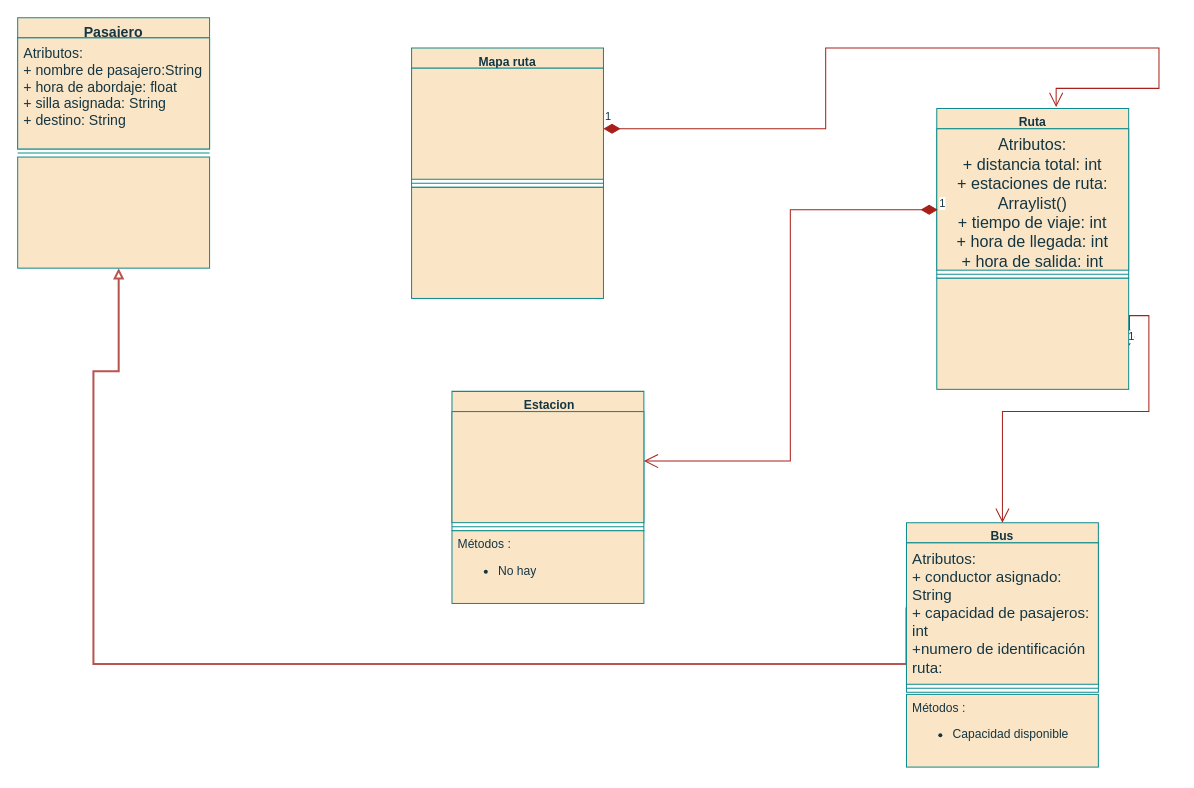
The diagram is 1194 pixels wide and 788 high, and some of its shapes have lost their labels. Here are the shapes that lost their labels. From the top down, the centre of each, then its label:
At (507,123): "Atributos: + rutas: Arraylist() + tarifa de pasajeros: long".
At (113,212): "Métodos : Tiempo de llegada estimado".
At (507,242): "Métodos: Ruta más corta Tarifa".
At (1032,333): "Metodos: Distancia total Tiempo estimado".
At (547,467): "Atributos: + nombre: String + ubicación :String + vagones: int".
